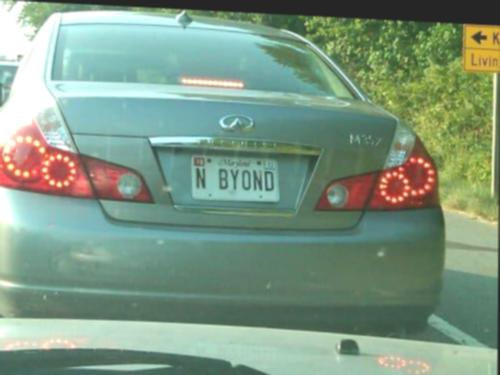License_Plate: (191, 154, 277, 200)
